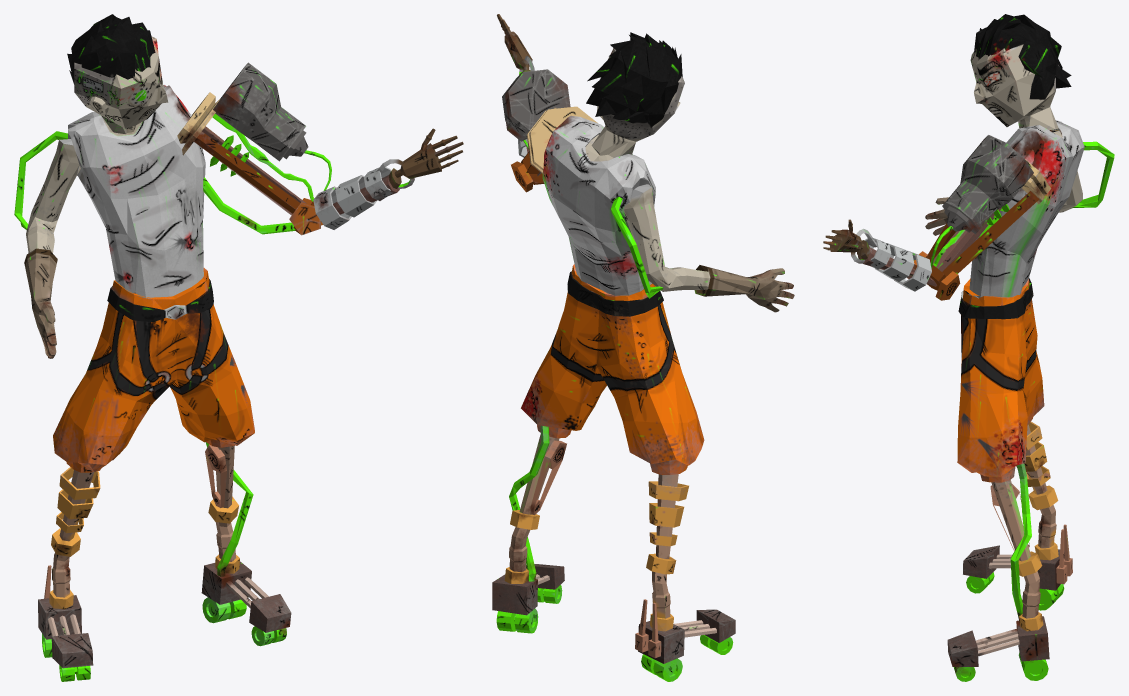
The model's file is CyborgFINALAnimation_000025.obj.
3 renders of one model, left to right at view 1: azimuth 30°, elevation 25°; view 2: azimuth 150°, elevation 25°; view 3: azimuth 270°, elevation 25°, orthographic. The views are drawn at different scales.
Parts seen in each view (by area): view 1: CyborgMesh_Cube.002; view 2: CyborgMesh_Cube.002; view 3: CyborgMesh_Cube.002.
Part boxes in pixels (x1,y1,x2,y2): CyborgMesh_Cube.002: (14,14,463,681); CyborgMesh_Cube.002: (492,14,794,681); CyborgMesh_Cube.002: (823,14,1114,681).
Bounding box in the file's own units: 5.61 × 9.52 × 4.15.
